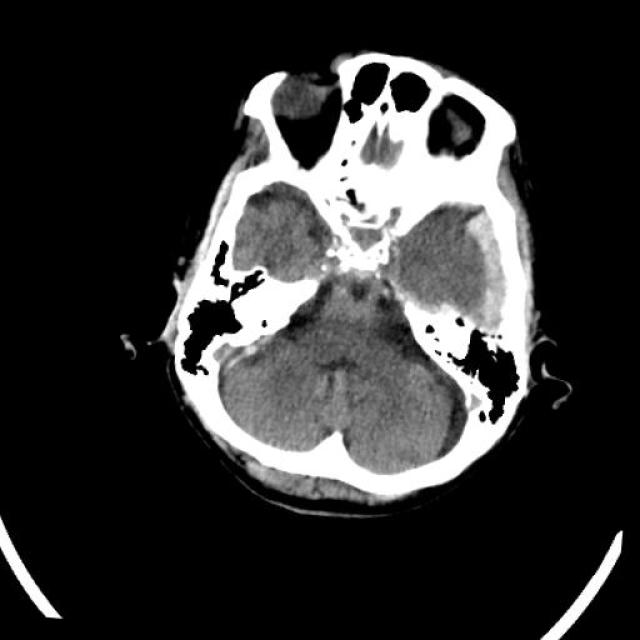Subdural: (419, 183, 552, 343)
